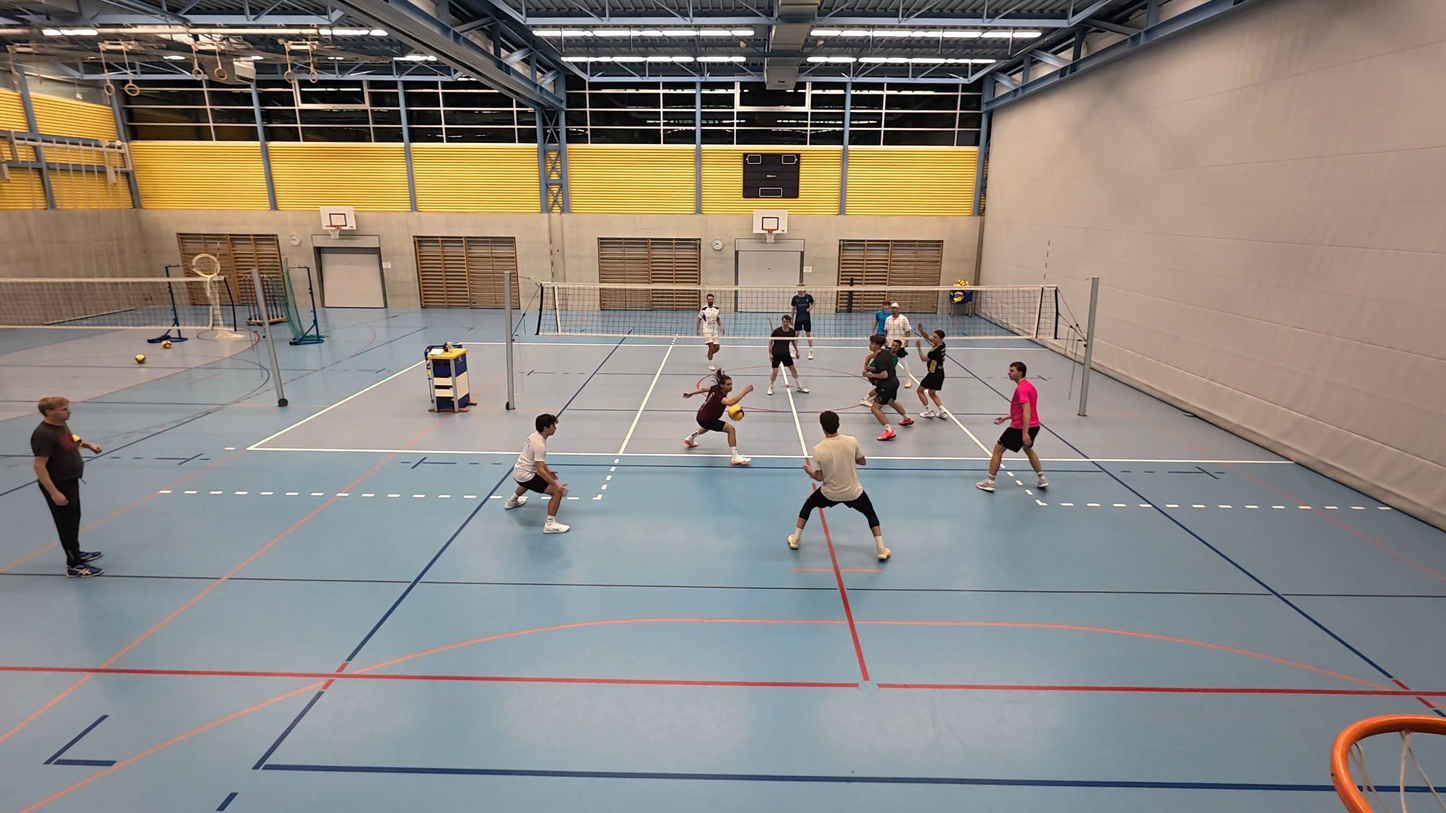Dig: (682, 374, 759, 467)
Player: (788, 410, 891, 562), (976, 360, 1049, 493), (505, 413, 570, 533), (862, 337, 910, 440), (767, 314, 807, 396), (914, 330, 949, 420), (884, 303, 915, 382), (697, 294, 726, 376), (791, 286, 816, 360), (870, 300, 888, 369)
ball: (727, 403, 746, 419)
